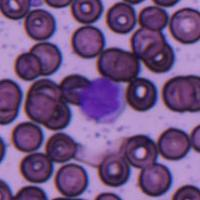L: (78, 76, 126, 123)
